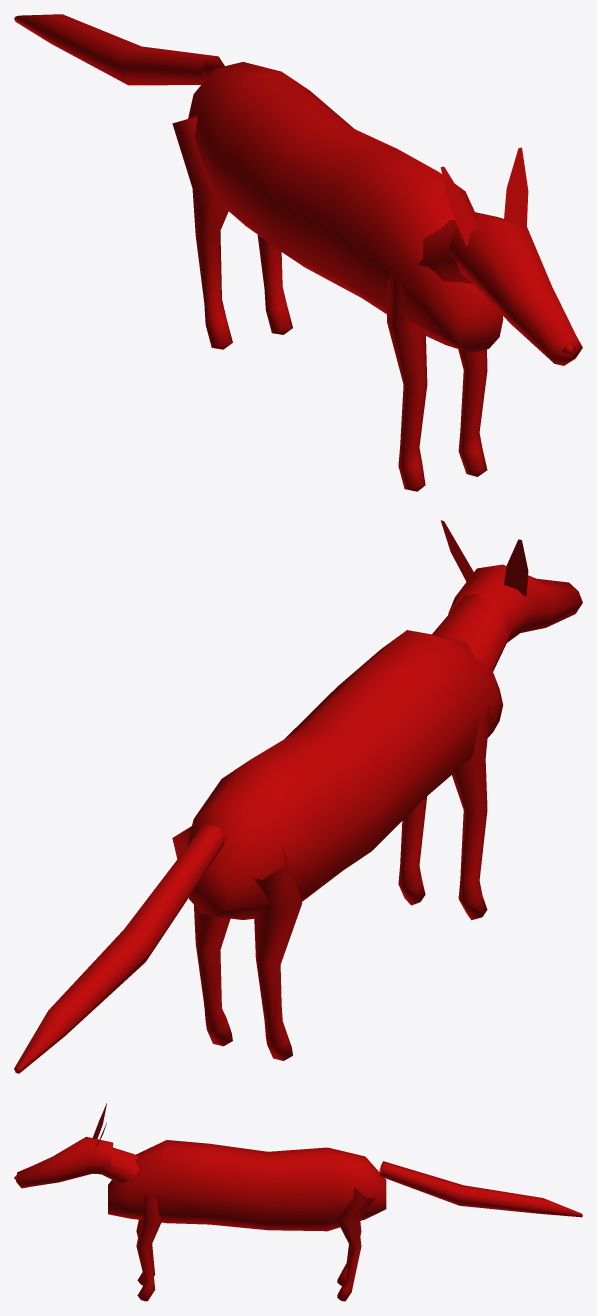
The model's file is coyote.glb.
3 views of the same model, one above another, from view 1: azimuth 30°, elevation 25°; view 2: azimuth 150°, elevation 25°; view 3: azimuth 270°, elevation 25° (orthographic). The views are drawn at different scales.
Parts seen in each view (by area): view 1: body, head, tail, leg_lh, leg_lf, leg_rf, leg_rh; view 2: body, tail, head, leg_lh, leg_lf, leg_rh, leg_rf; view 3: body, head, tail, leg_rh, leg_rf.
Boxes of the visible parts, x1,y1,x2,y2 form: body: [188, 62, 503, 352]; head: [417, 147, 582, 365]; tail: [14, 14, 224, 85]; leg_lh: [172, 116, 232, 349]; leg_lf: [387, 275, 427, 491]; leg_rf: [458, 349, 487, 476]; leg_rh: [257, 235, 292, 334]; body: [187, 630, 502, 919]; tail: [14, 824, 225, 1073]; head: [432, 520, 582, 677]; leg_lh: [252, 844, 301, 1060]; leg_lf: [452, 706, 490, 920]; leg_rh: [172, 826, 232, 1046]; leg_rf: [398, 796, 427, 905]; body: [108, 1140, 386, 1231]; head: [14, 1103, 139, 1188]; tail: [379, 1161, 582, 1217]; leg_rh: [337, 1188, 374, 1301]; leg_rf: [136, 1195, 162, 1301].
Bounding box in the file's own units: 0.25 × 0.7461 × 2.12.
